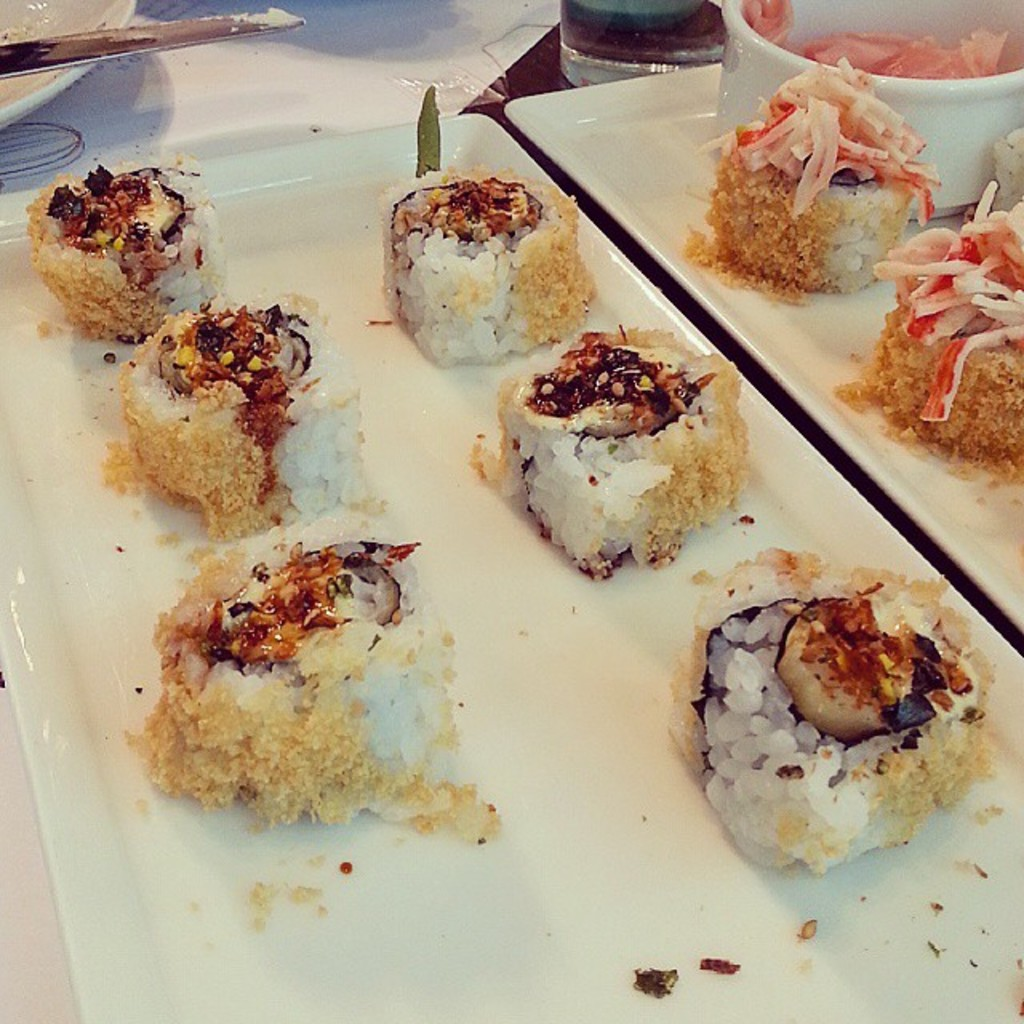sushi: (126, 539, 506, 834), (467, 330, 742, 578), (709, 586, 963, 848), (123, 286, 379, 536), (386, 94, 602, 373), (696, 66, 949, 304), (845, 190, 1019, 485), (27, 170, 224, 339)
